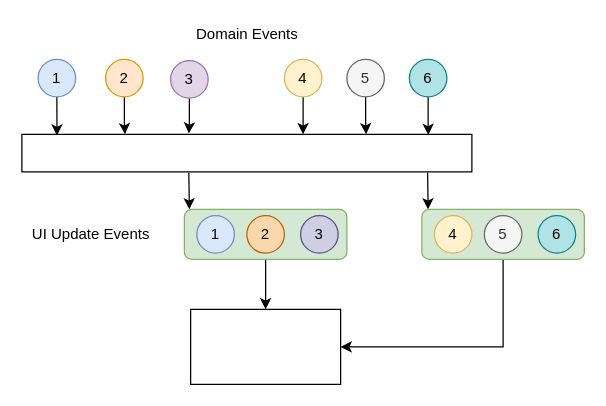
Image size: 606x406. Some labels were removed from this diagram. The centre of each missing label's shape, as x and y in pixels:
"Buffered Event Dispatcher" goes at (x=246, y=152).
"Consuming Vaadin Component" goes at (x=265, y=346).
